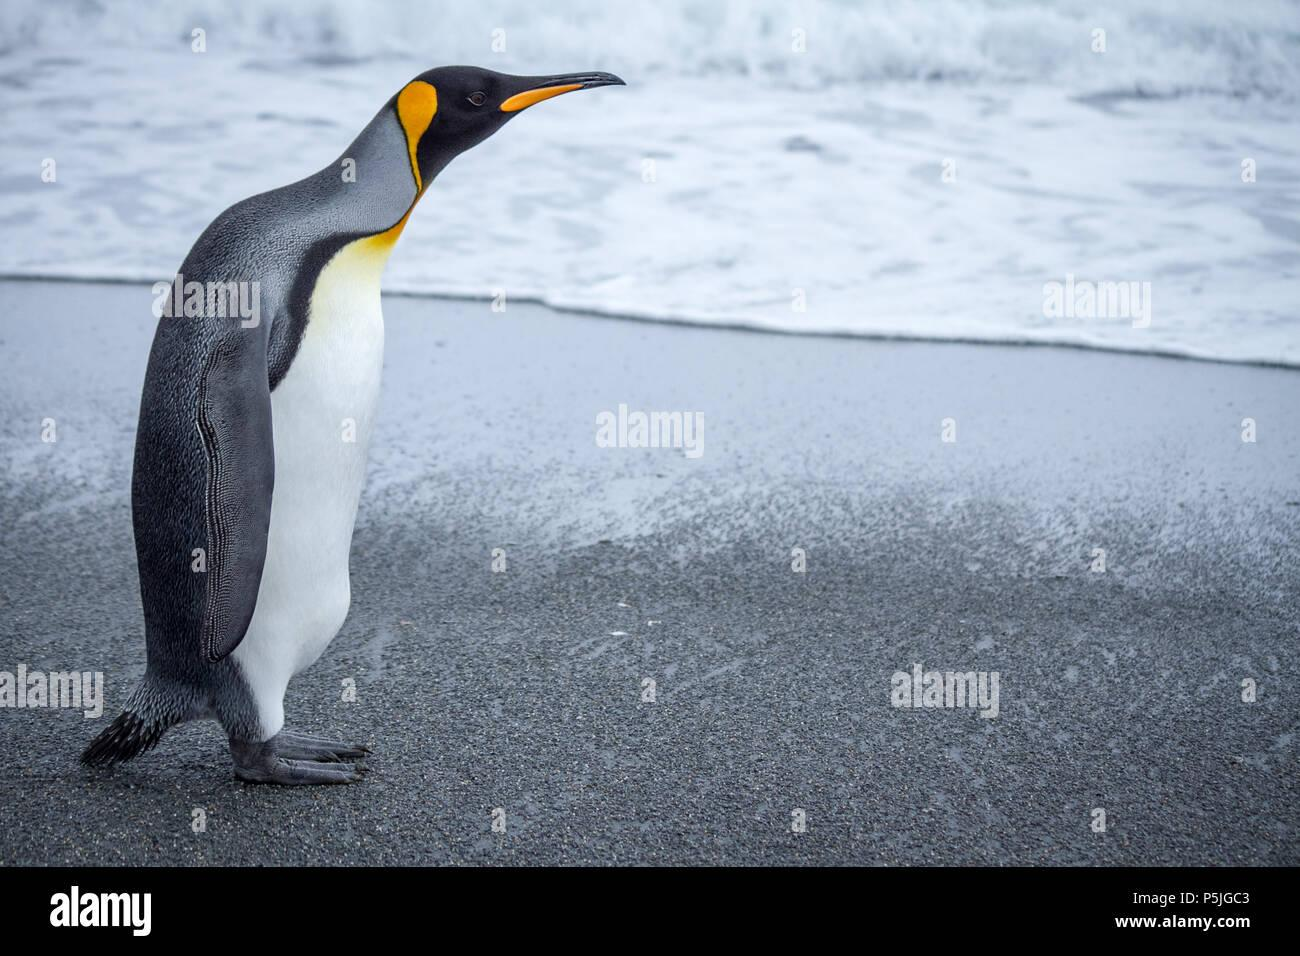king: (59, 38, 634, 805)
